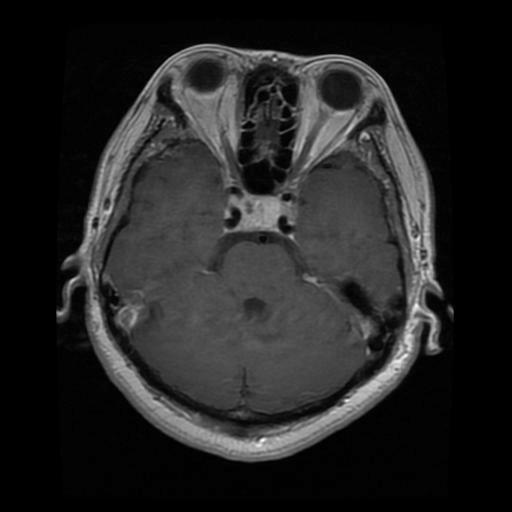Tumour-Pituitary: (222, 191, 296, 240)
